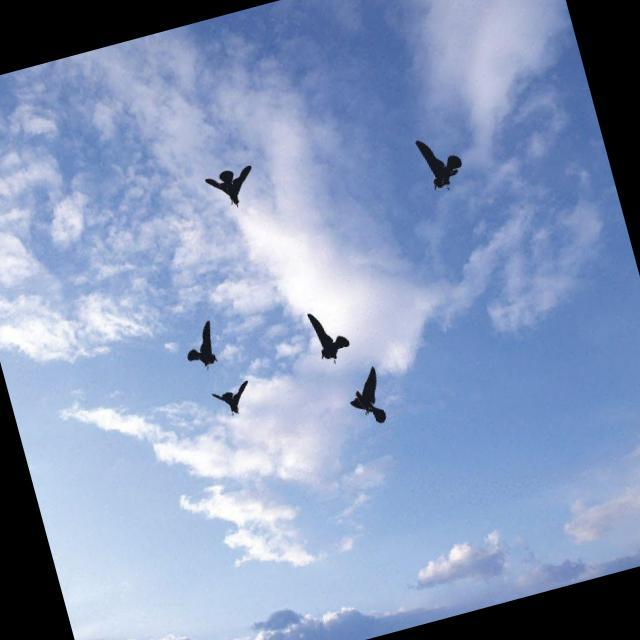bird: (413, 127, 470, 196), (339, 363, 395, 433), (201, 159, 264, 217), (303, 301, 355, 368), (178, 318, 225, 376), (207, 376, 259, 425)
